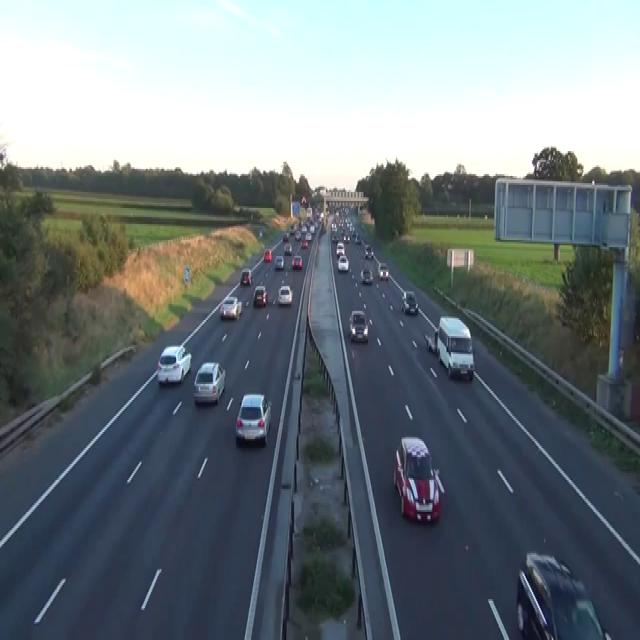Car: (516, 551, 611, 638), (393, 436, 445, 522), (235, 393, 272, 444), (156, 343, 191, 384), (193, 361, 226, 403), (348, 309, 368, 343), (219, 295, 242, 320), (401, 290, 418, 314), (423, 327, 438, 354), (277, 284, 293, 306), (253, 284, 267, 308), (360, 266, 373, 282), (378, 261, 389, 279), (337, 254, 348, 272), (240, 268, 252, 284), (291, 254, 302, 268), (274, 254, 284, 268), (364, 244, 373, 258), (335, 242, 344, 256), (283, 242, 292, 254), (300, 238, 308, 249), (264, 249, 271, 261), (282, 231, 289, 242), (294, 229, 301, 240), (331, 231, 338, 242), (305, 231, 312, 242), (343, 233, 350, 242), (355, 233, 361, 243), (331, 221, 337, 231), (289, 224, 295, 233), (301, 224, 307, 233), (309, 224, 315, 233), (301, 196, 306, 204), (259, 228, 262, 236), (320, 212, 323, 220)
Truck: (424, 314, 474, 380)
